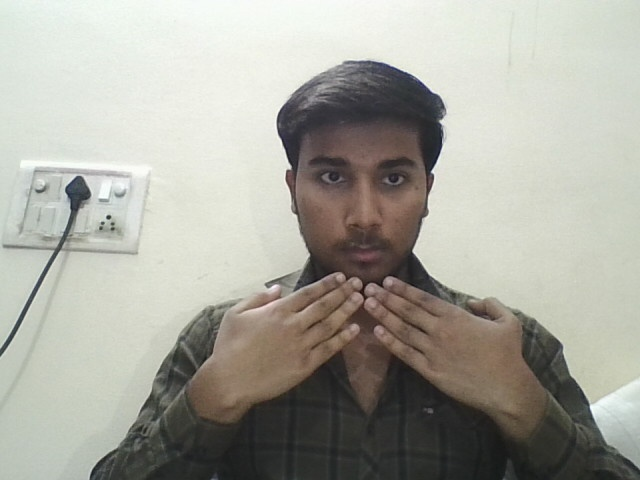thanks: (167, 257, 595, 425)
